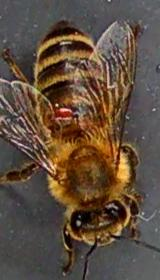varroa_mite: (52, 100, 76, 125)
